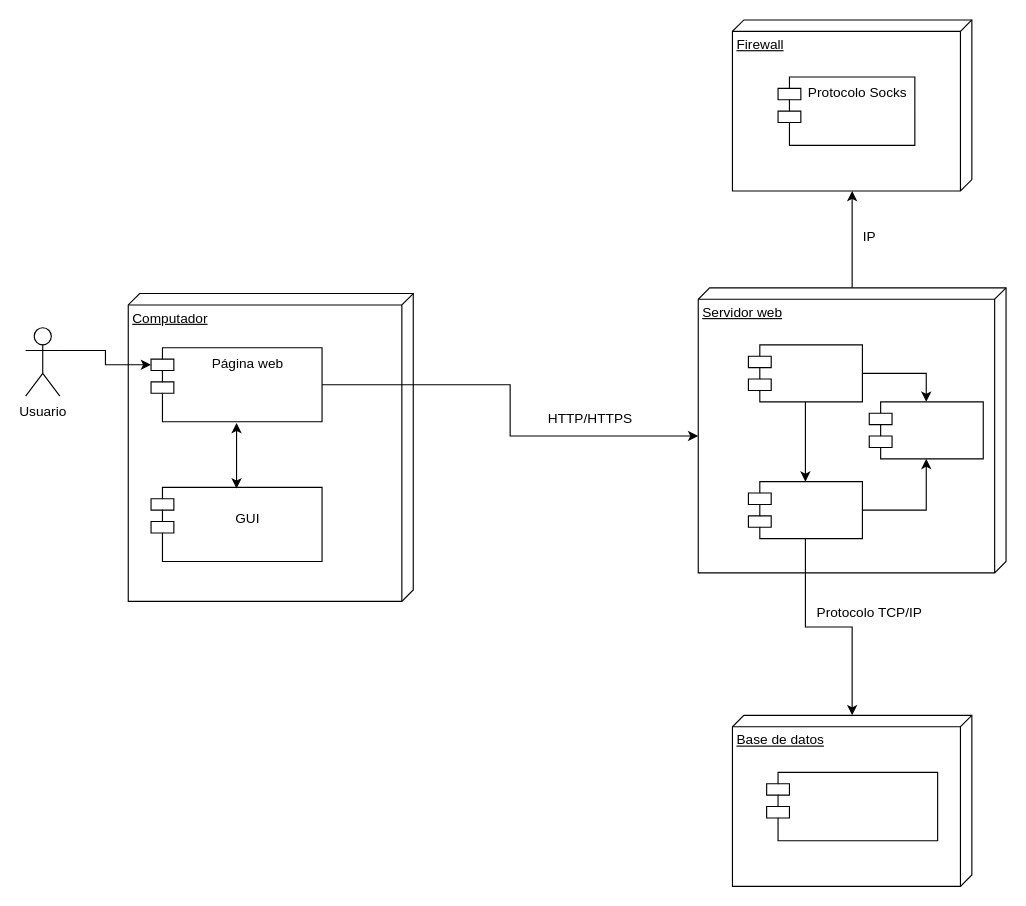
Image size: 1026x906. Some labels were removed from this diagram. The shapes that lost their labels are listed below. From the top down, each one's centre as x and y in pixels, then its label:
At (804,373): "Apache".
At (925,430): "Log".
At (804,510): "Interfaz de BD".
At (852,806): "MySQL".
